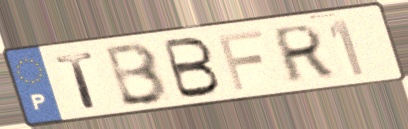1: (327, 17, 366, 78)
B: (104, 39, 172, 108), (160, 35, 224, 101)
F: (215, 27, 267, 92)
R: (272, 21, 336, 86)
T: (52, 49, 101, 111)
